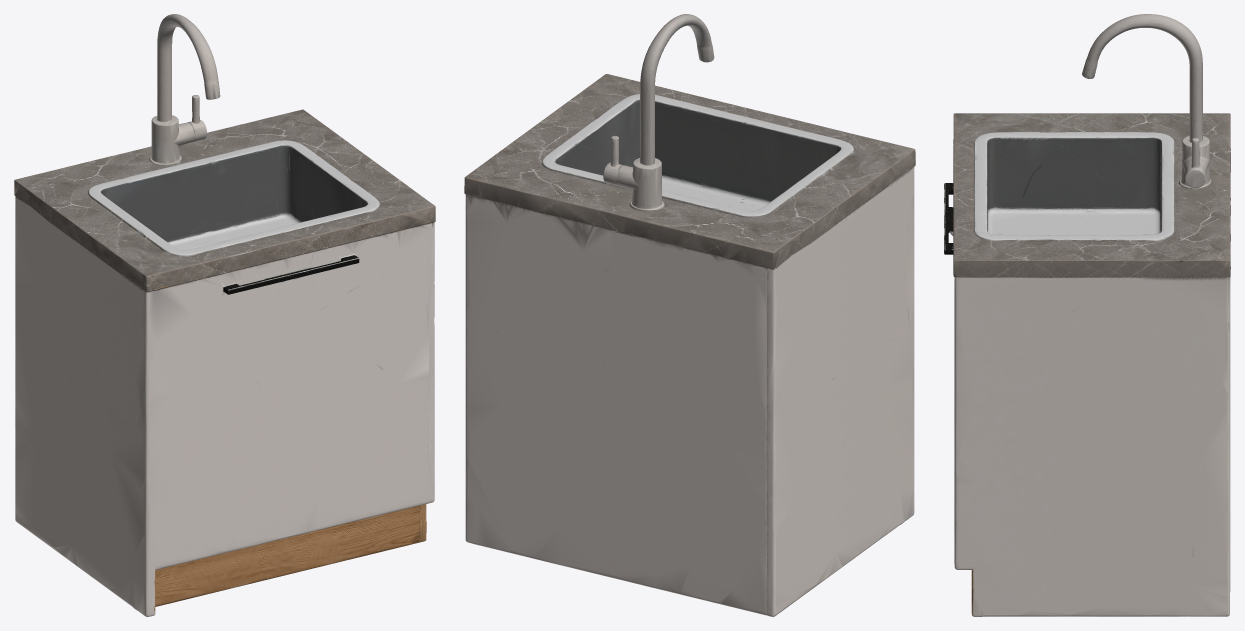
Rendered from kitchen-sink-cabinet.glb.
3 views of the same model, side by side, from view 1: azimuth 30°, elevation 25°; view 2: azimuth 150°, elevation 25°; view 3: azimuth 270°, elevation 25° (orthographic). The views are drawn at different scales.
Visible parts, largest first — view 1: Mesh_0; view 2: Mesh_0; view 3: Mesh_0.
Part boxes in pixels (x1,y1,x2,y2): Mesh_0: (14,14,435,616); Mesh_0: (464,14,915,616); Mesh_0: (944,14,1230,616).
Bounding box in the file's own units: 0.6 × 0.9899 × 0.4927.
Materials: 1 (1 with a texture image).
